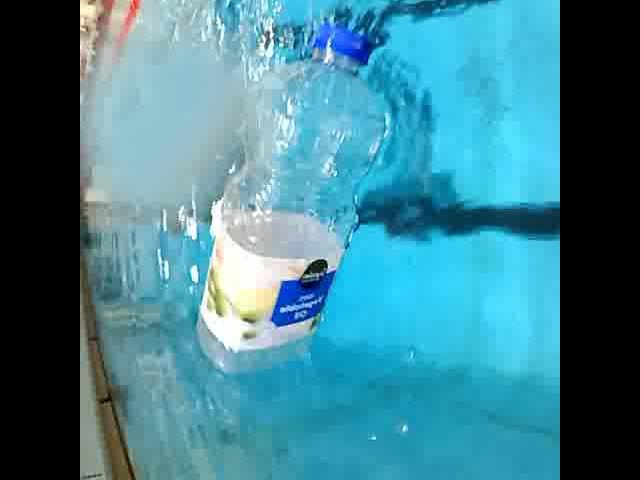Bottle: (192, 21, 396, 375)
